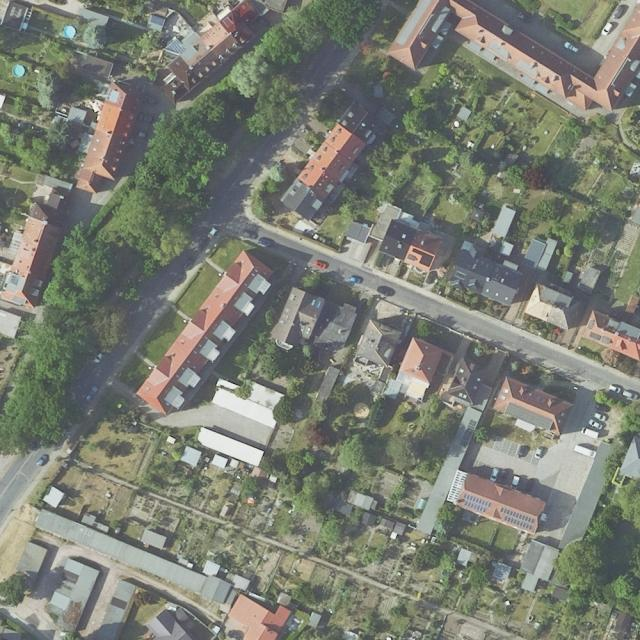PV: (500, 506, 535, 530), (463, 493, 492, 513)
ST: (454, 270, 466, 280)
